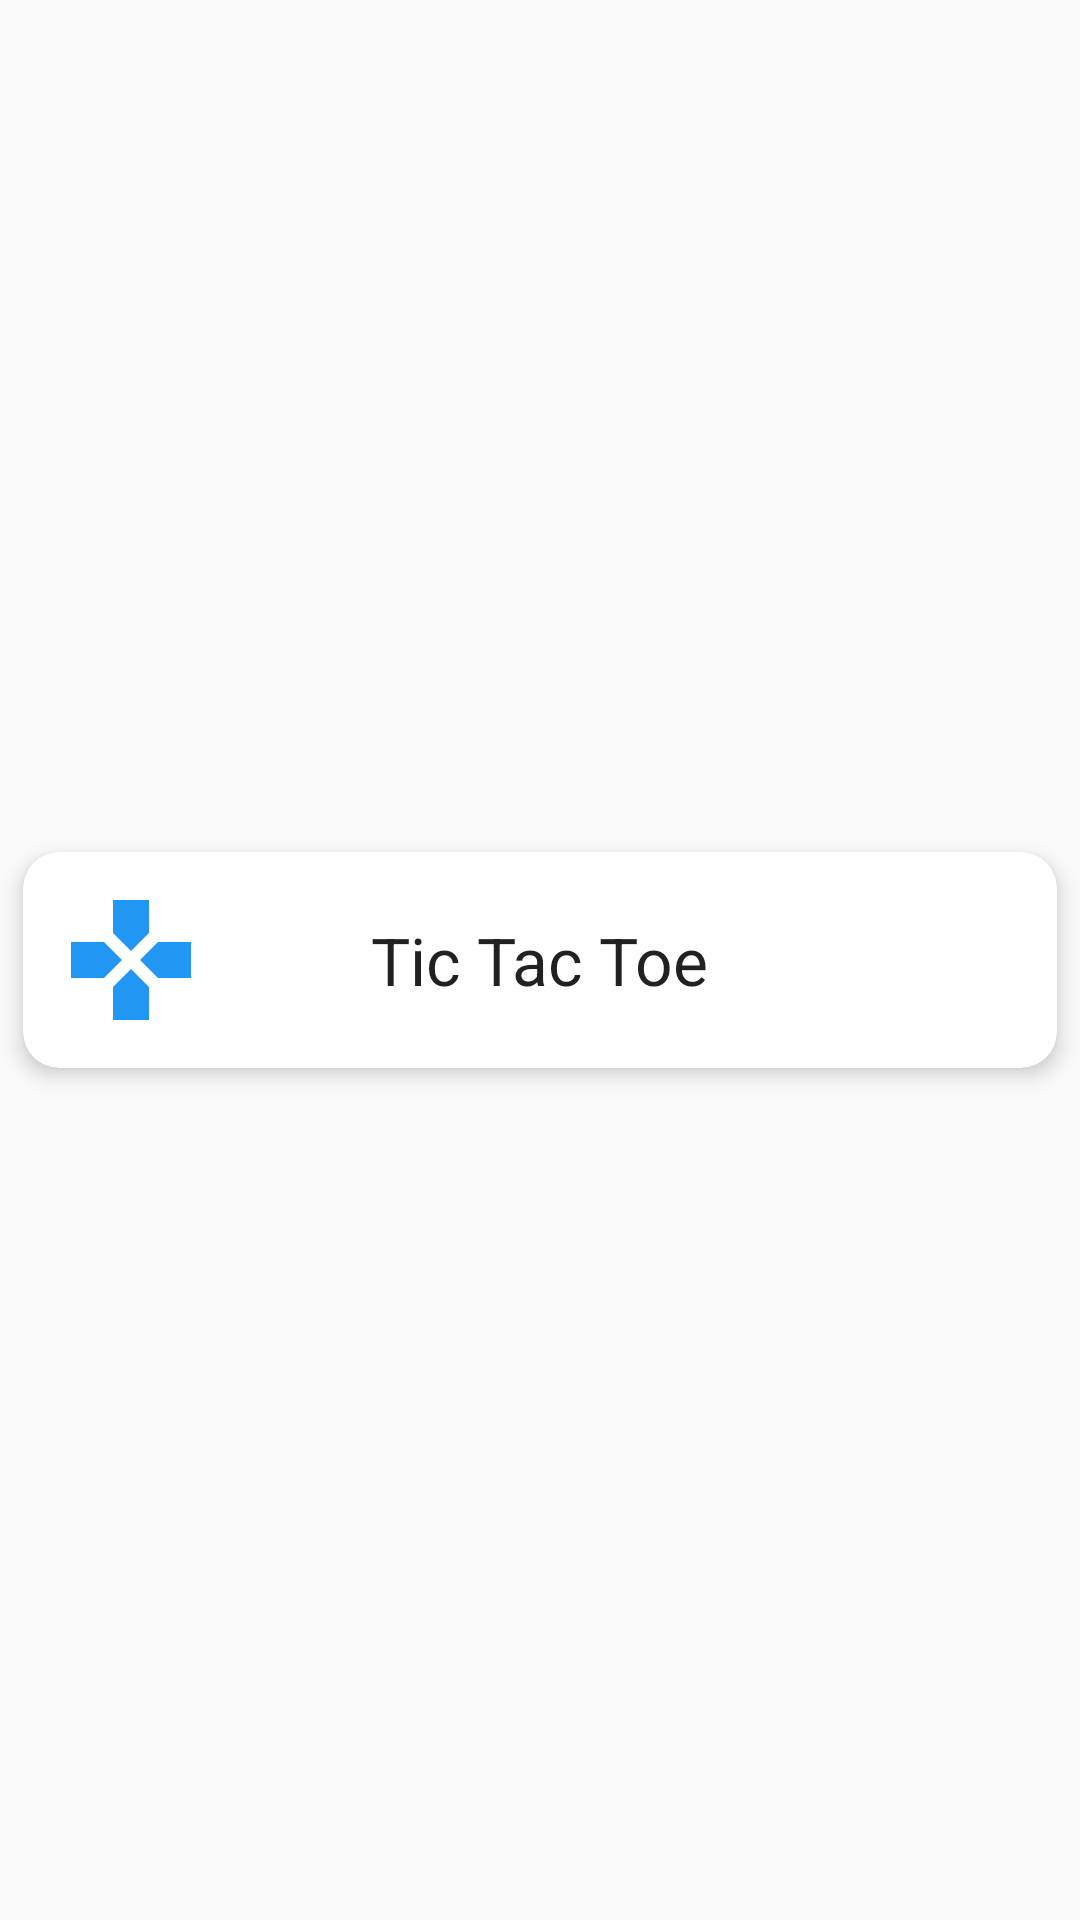

Where to tap for icons on this 1080w x 1920h app screen, as (x=x, y=y):
game: (x=131, y=960)
